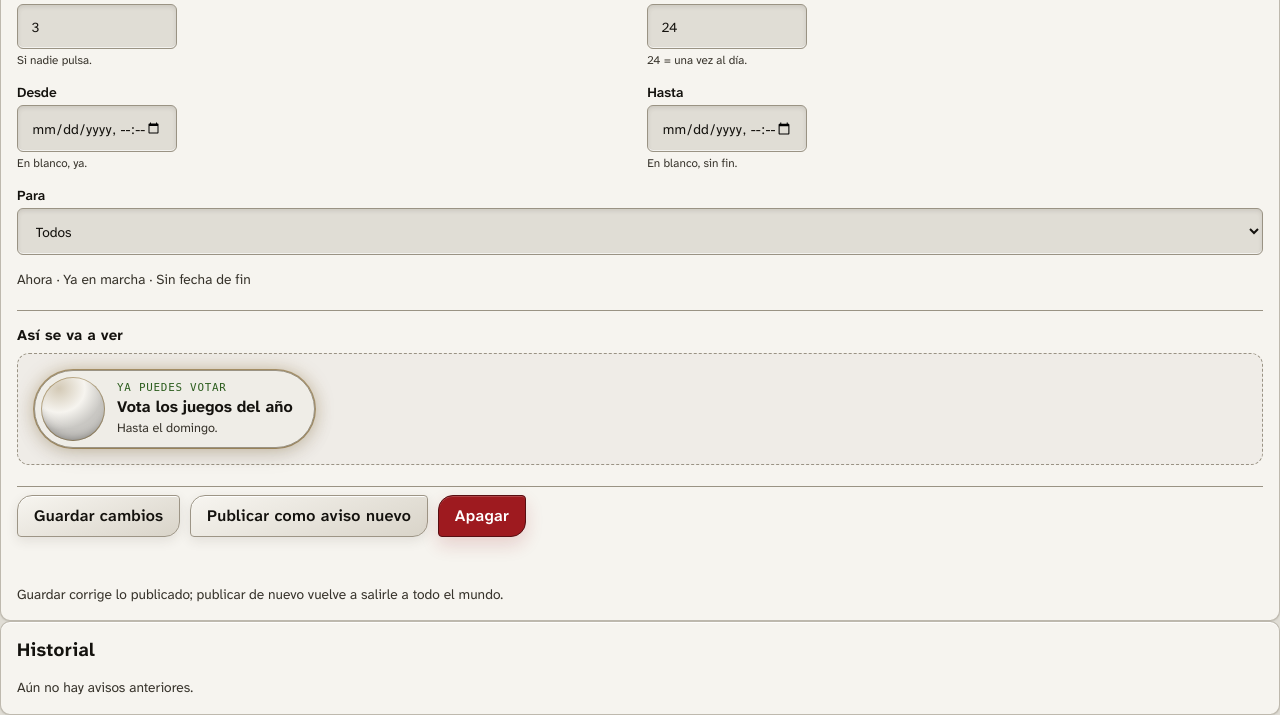
panel · aviso a los usuarios › si la escritura falla, lo dice
(page scrolled)
Click the button "Guardar cambios" at [99, 516], box [17, 495, 180, 537]
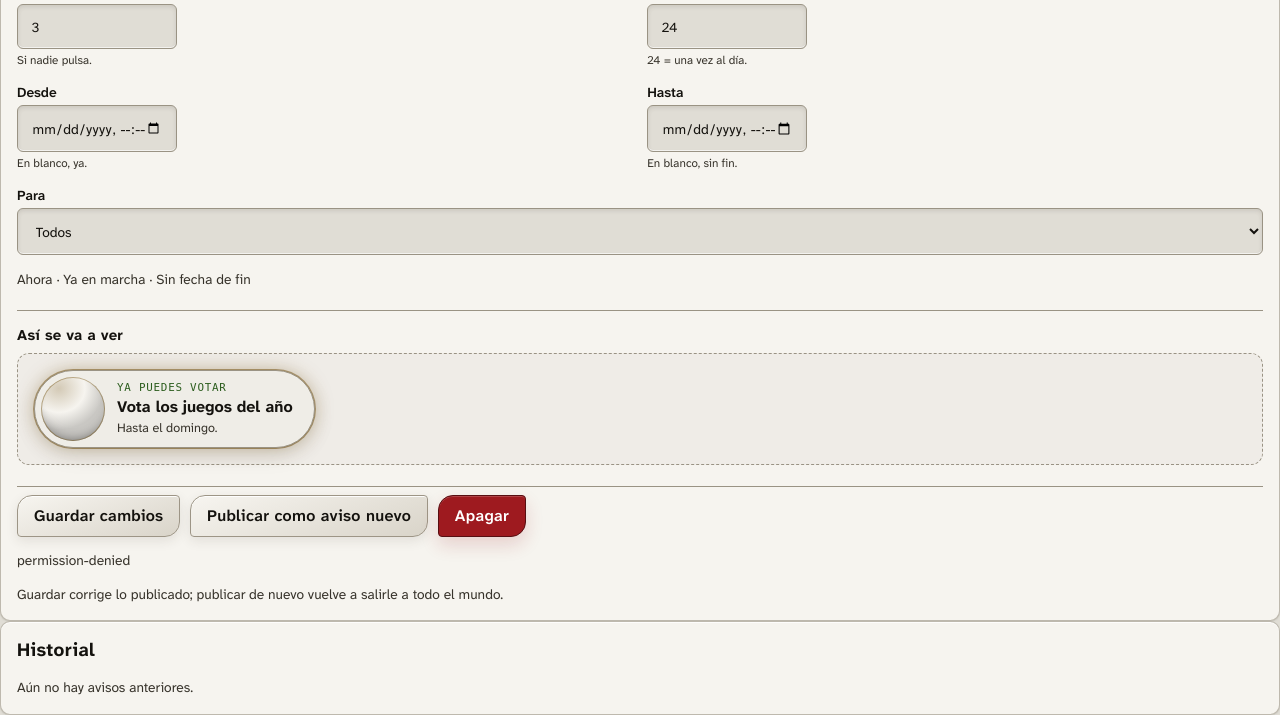
Result: the text "permission-denied" is shown at [17, 551, 130, 569]
